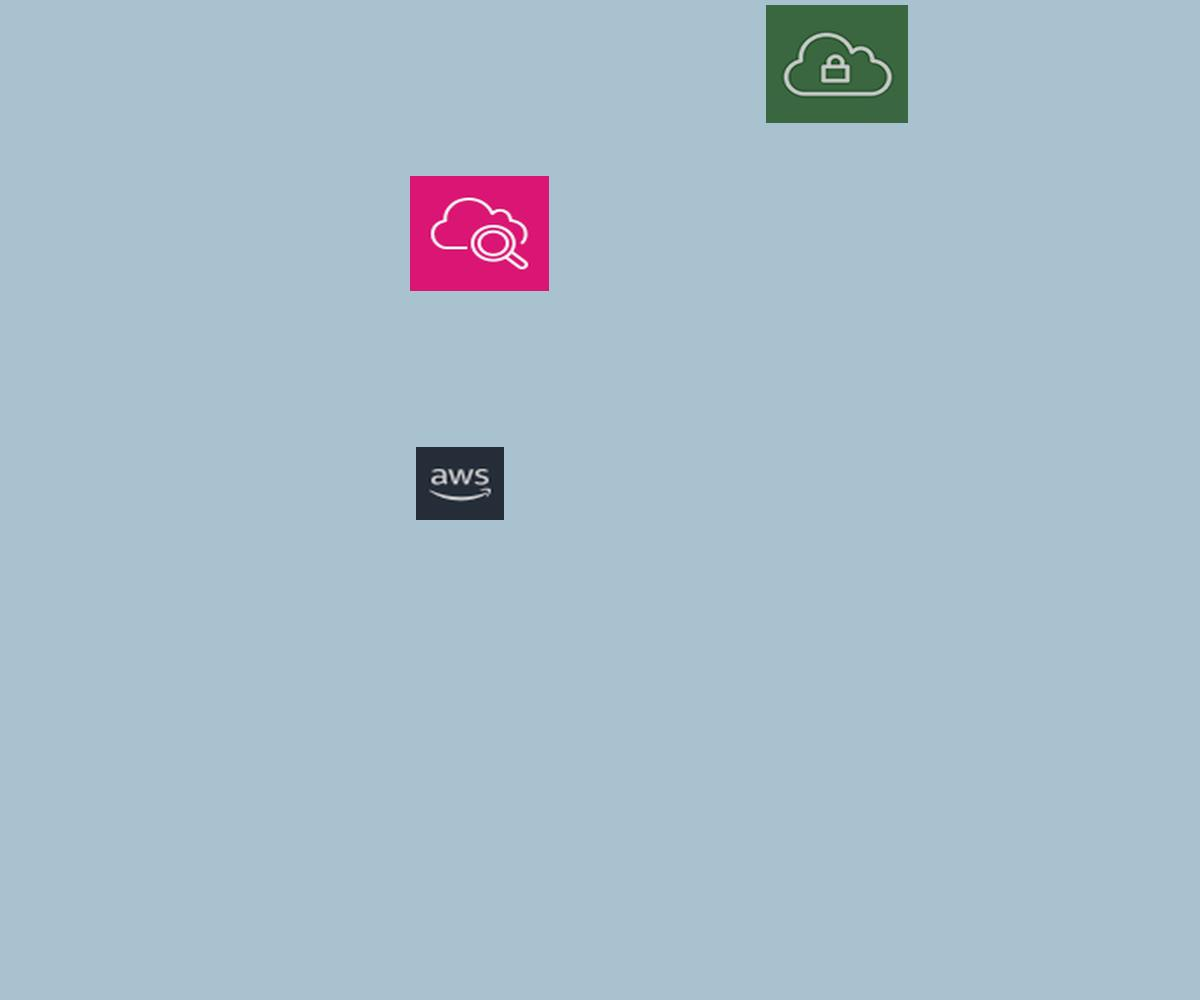AWS-Cloud-logo: (416, 447, 504, 520)
AWS-CloudWatch: (410, 176, 549, 291)
AWS-Private_vpc: (766, 5, 908, 123)
